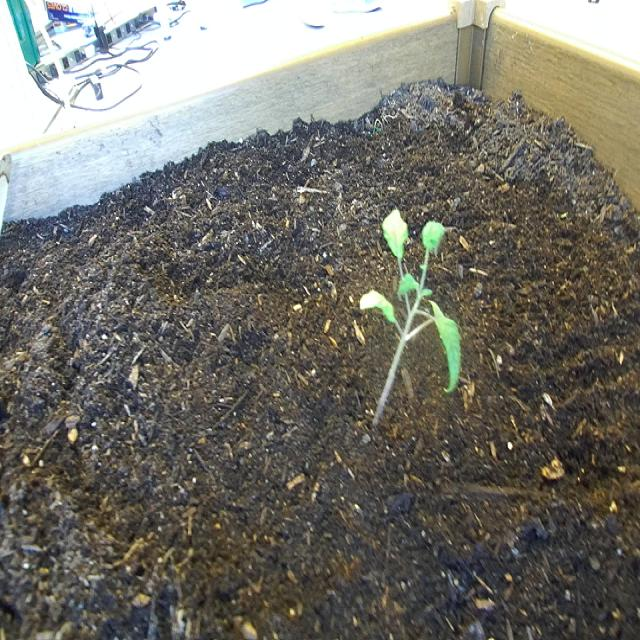Healthy: (356, 206, 464, 441)
